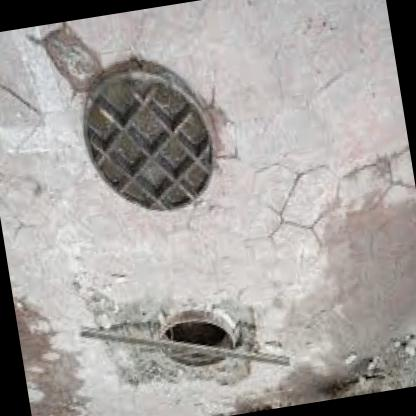manholes: (42, 24, 300, 416)
